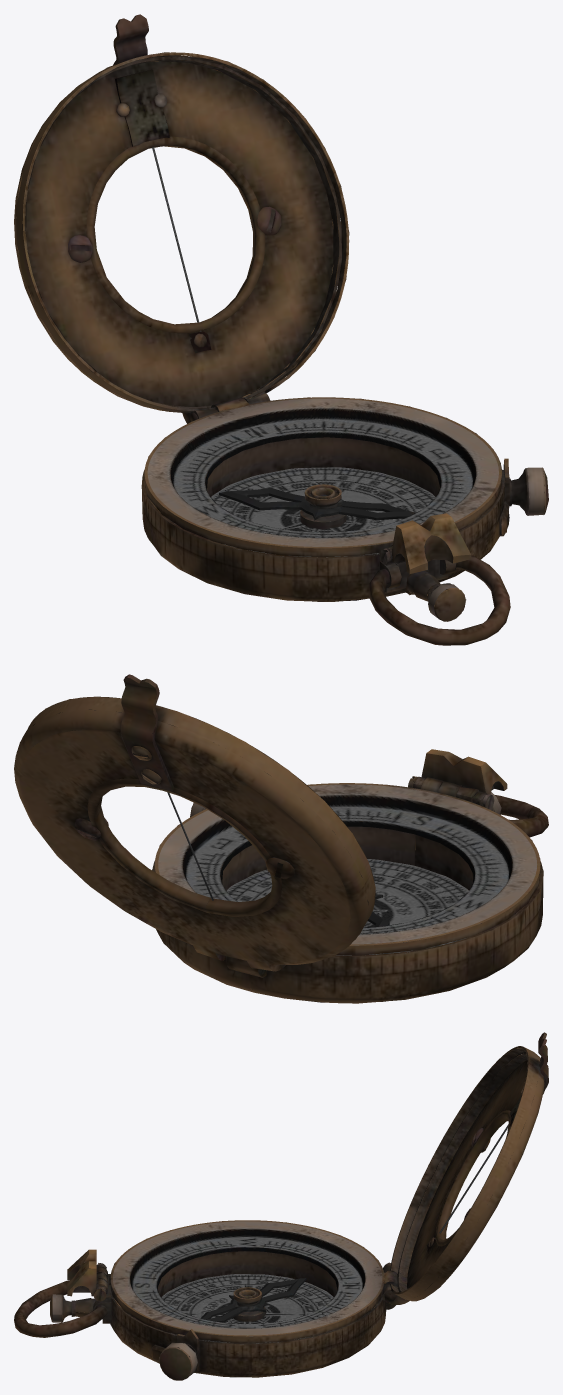
The model's file is seadogs_compass.glb.
3 renders of one model, top to bottom at view 1: azimuth 30°, elevation 25°; view 2: azimuth 150°, elevation 25°; view 3: azimuth 270°, elevation 25°, orthographic. The views are drawn at different scales.
Parts seen in each view (by area): view 1: seadogs_compass_lid, seadogs_compass, seadogs_compass_needle; view 2: seadogs_compass_lid, seadogs_compass; view 3: seadogs_compass, seadogs_compass_lid, seadogs_compass_needle.
Part boxes in pixels (x1,y1,x2,y2): seadogs_compass_lid: (14,14,349,423); seadogs_compass: (141,397,548,645); seadogs_compass_needle: (219,488,414,520); seadogs_compass_lid: (14,674,375,971); seadogs_compass: (152,749,548,1003); seadogs_compass: (14,1220,397,1380); seadogs_compass_lid: (382,1032,548,1304); seadogs_compass_needle: (200,1278,306,1322).
Bounding box in the file's own units: 0.0814 × 0.0866 × 0.1442.
1 material, 1 textured.
